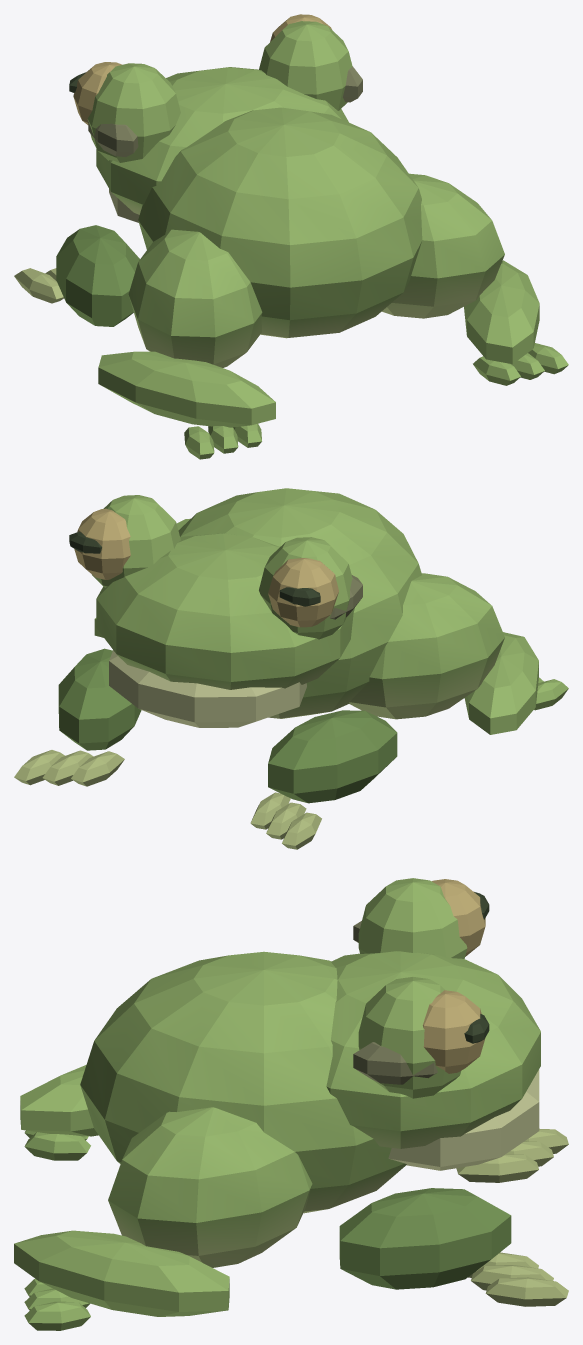
Rendered from fauna-frog.glb.
3 renders of one model, top to bottom at view 1: azimuth 30°, elevation 25°; view 2: azimuth 150°, elevation 25°; view 3: azimuth 270°, elevation 25°, orthographic. The views are drawn at different scales.
Size of the model in its own units: 0.2267 by 0.133 by 0.2234.
